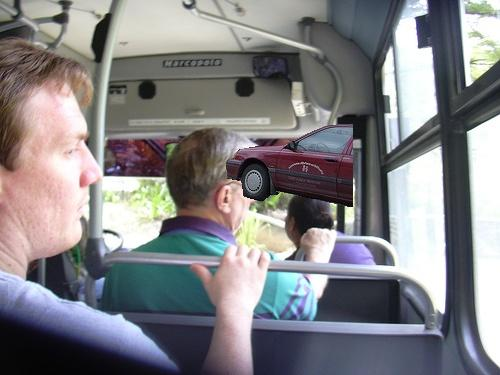tampered: (227, 125, 353, 207)
